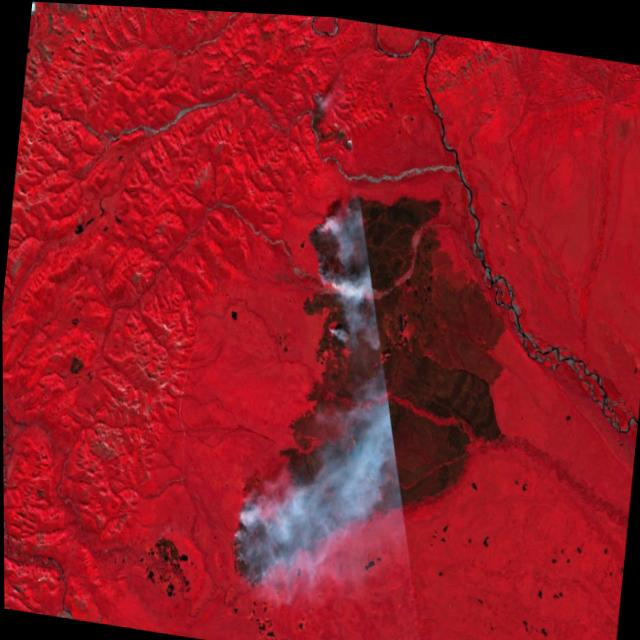fire: (224, 491, 281, 594), (300, 207, 360, 290), (337, 122, 361, 151)
